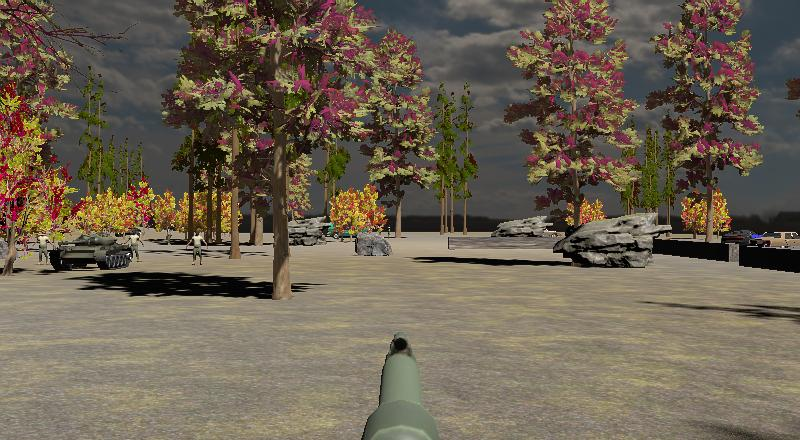Human: (188, 230, 207, 267)
Tank: (48, 230, 133, 272)
car: (737, 232, 800, 276), (738, 232, 800, 275), (720, 228, 754, 245)
